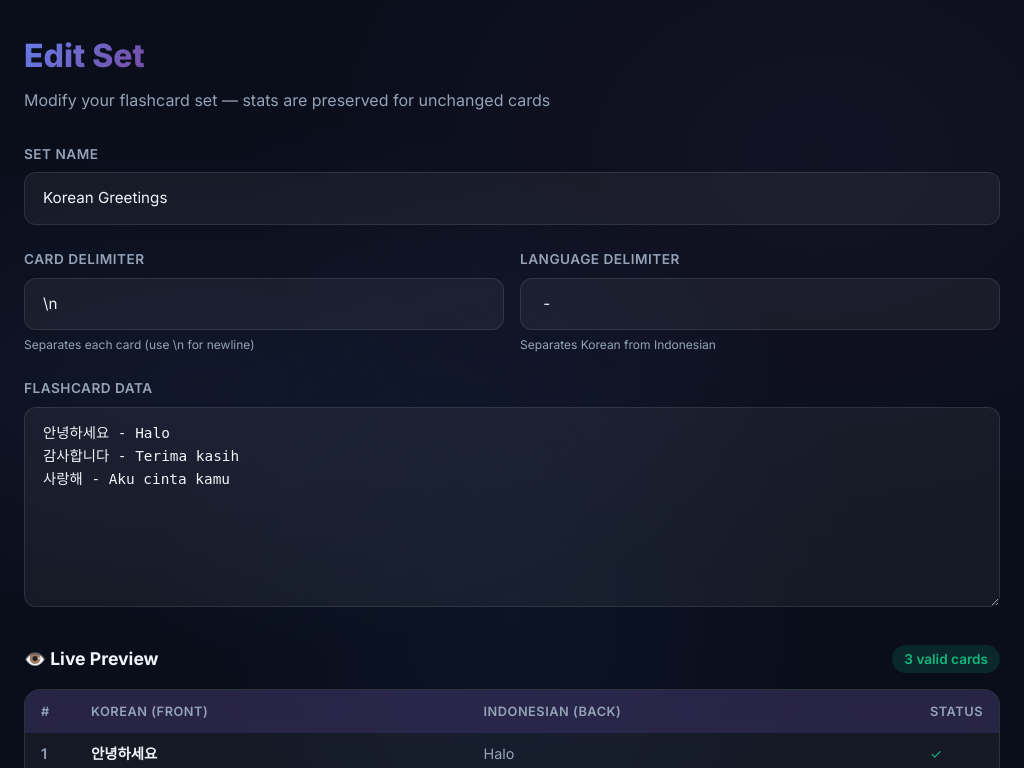
Test case: EditSet › modifying bulk text updates card count in preview
Check: the text "3 valid cards" is shown, box [892,645,1000,673]
Clear the text box at (512, 507), box [24,407,1000,607]
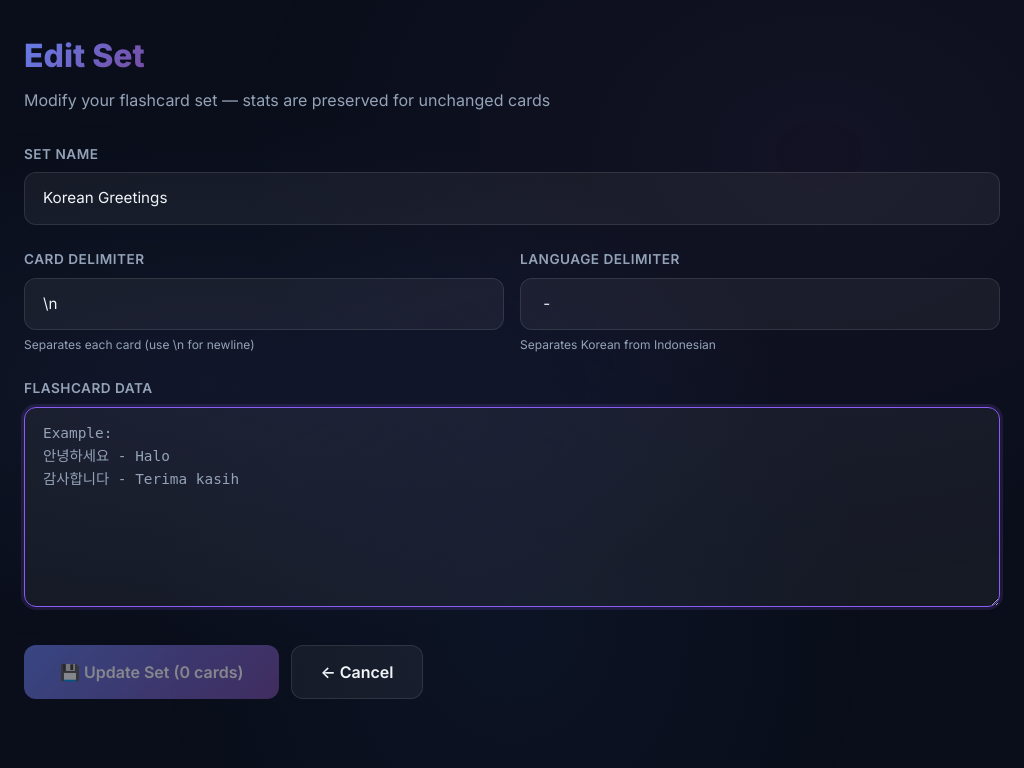
Check: the text "valid card" is gone
